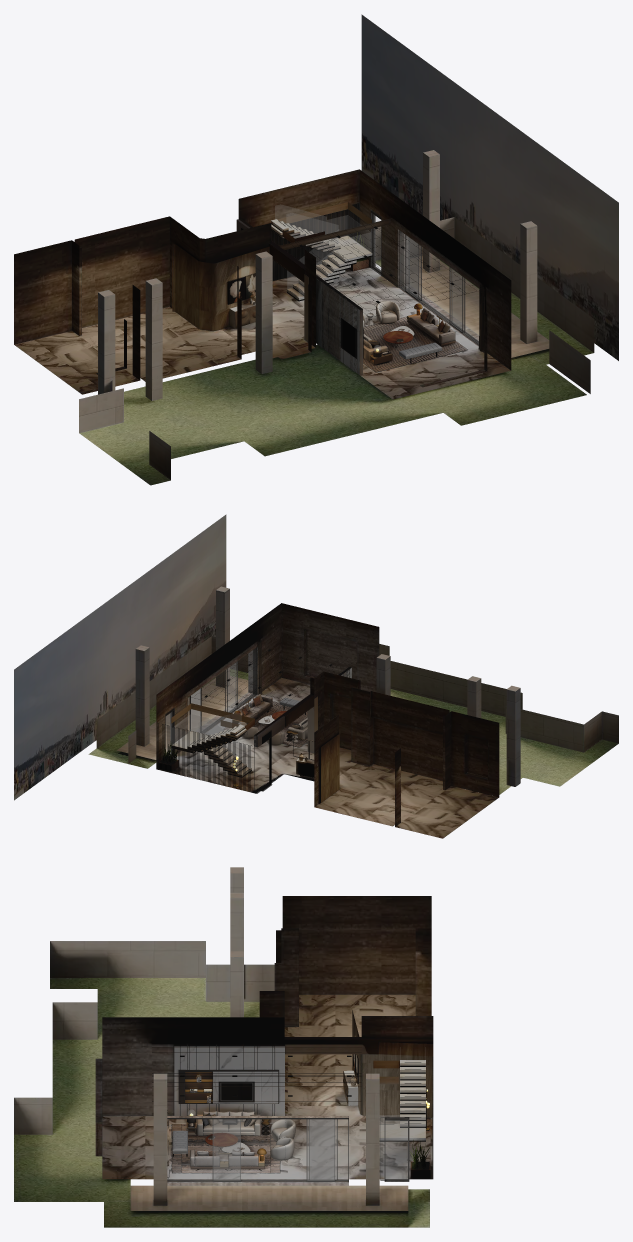
File: ht_living_room.glb
3 renders of one model, top to bottom at view 1: azimuth 30°, elevation 25°; view 2: azimuth 150°, elevation 25°; view 3: azimuth 270°, elevation 25°, orthographic. The views are drawn at different scales.
Parts seen in each view (by area): view 1: _1, Line001, Rectangle004, Rectangle002, 对象001, Sphere003, Line007, Rectangle003, Rectangle007, Rectangle2059395203, Object494, Rectangle009 (+4 smaller); view 2: Line001, _1, Rectangle002, 对象001, Rectangle004, Sphere003, Rectangle009, Rectangle003, Object494, Rectangle2059395203, Line007, Line2029251506 (+4 smaller); view 3: Line001, Rectangle004, 对象001, Rectangle002, Rectangle003, Rectangle007, Sphere003, Line007, Rectangle2059395203, Object494, Line2029251506, Obj3d66-540888-6-675 (+7 smaller).
Part boxes in pixels (x1,y1,x2,y2): _1: (361,14,618,360); Line001: (14,169,511,387); Rectangle004: (79,259,593,485); Rectangle002: (79,150,594,479); 对象001: (14,267,510,399); Sphere003: (275,204,463,352); Line007: (172,243,269,331); Rectangle003: (410,255,549,357); Rectangle007: (304,274,362,375); Rectangle2059395203: (236,202,391,282); Object494: (271,219,372,300); Rectangle009: (271,203,359,280); Line001: (156,603,499,826); _1: (14,514,226,800); Rectangle002: (96,586,618,786); 对象001: (156,677,498,838); Rectangle004: (88,669,618,794); Sphere003: (166,662,251,773); Rectangle009: (157,722,254,792); Rectangle003: (117,676,248,759); Object494: (171,724,251,776); Rectangle2059395203: (171,694,314,747); Line007: (321,734,339,802); Line2029251506: (165,647,256,757); Line001: (95,896,433,1185); Rectangle004: (14,978,429,1227); 对象001: (102,994,432,1179); Rectangle002: (14,867,379,1205); Rectangle003: (130,1185,408,1210); Rectangle007: (174,1044,284,1115); Sphere003: (187,1110,425,1180); Line007: (352,1010,433,1117); Rectangle2059395203: (284,1037,433,1084); Object494: (379,1060,425,1140); Line2029251506: (167,1116,409,1181); Obj3d66-540888-6-675: (171,1124,280,1172).
Size of the model in its own units: 21.85 by 7.3 by 22.22.
Materials: 76 (72 with a texture image).
